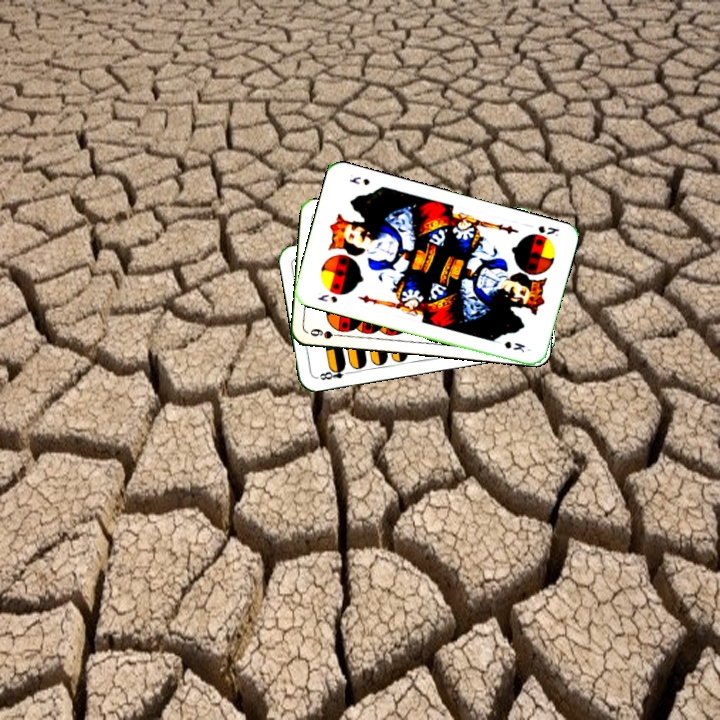E8: (313, 362, 353, 383)
S9: (306, 324, 346, 341)
SK: (534, 221, 562, 239), (313, 290, 340, 305)
